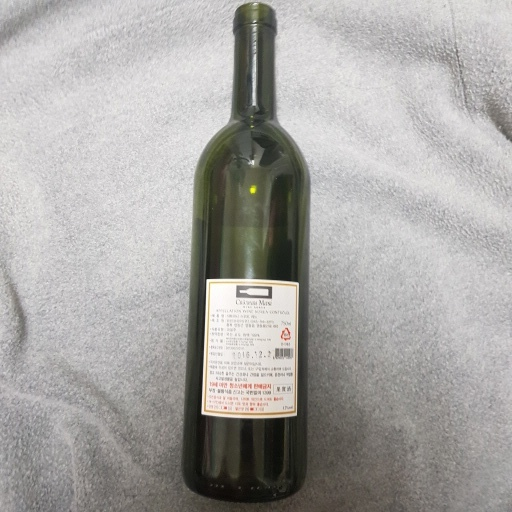Glass_2: (178, 1, 313, 503)
